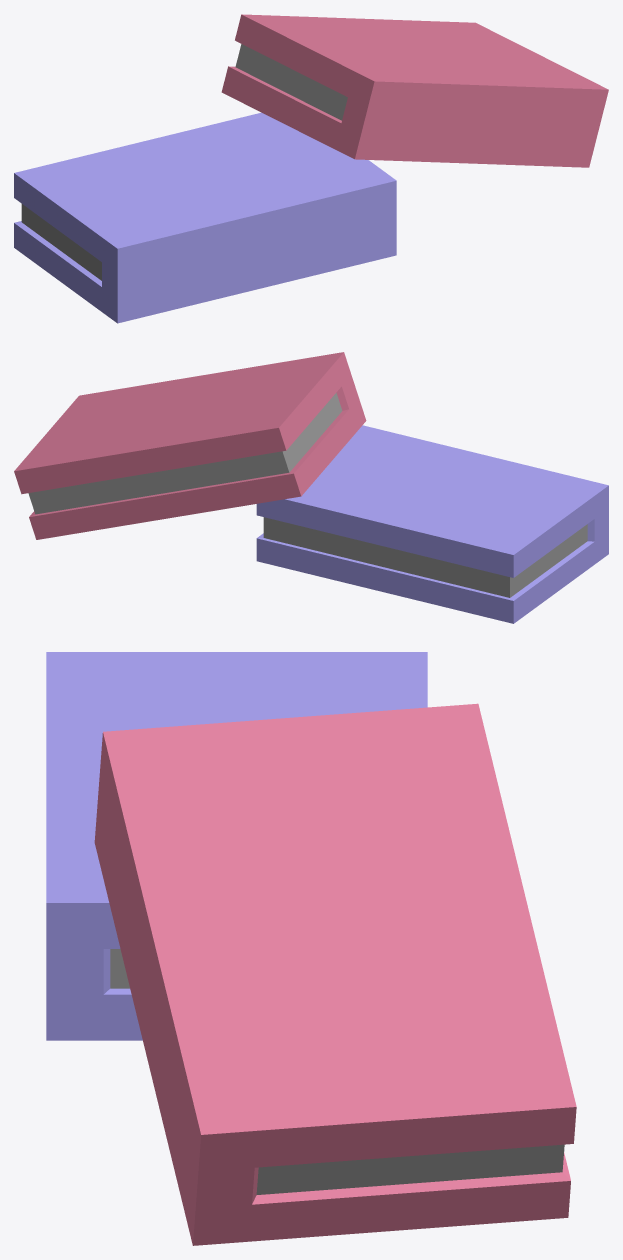
File: books2.fbx
3 renders of one model, top to bottom at view 1: azimuth 30°, elevation 25°; view 2: azimuth 150°, elevation 25°; view 3: azimuth 270°, elevation 25°, orthographic. The views are drawn at different scales.
Parts seen in each view (by area): view 1: books2; view 2: books2; view 3: books2.
Part boxes in pixels (left/top/right/bottom): books2: left=14, top=14, right=608, bottom=323; books2: left=14, top=352, right=608, bottom=623; books2: left=46, top=652, right=576, bottom=1245.
Bounding box in the file's own units: 160 × 47.14 × 74.86.
